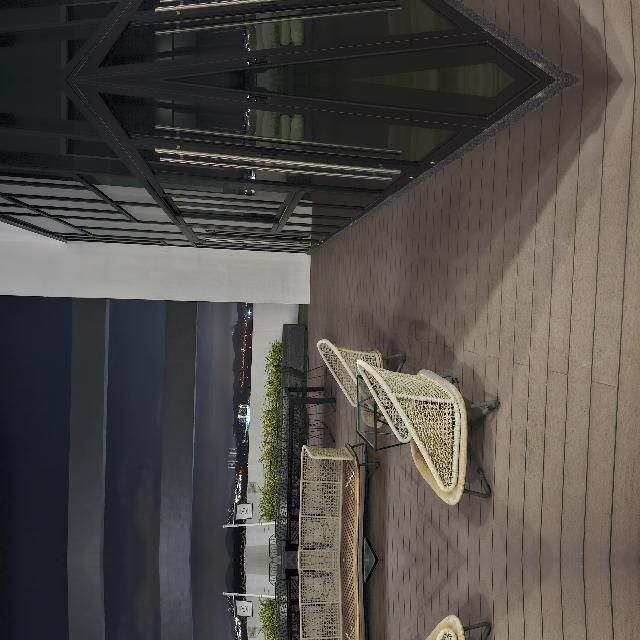obstacle: (52, 398, 224, 582), (52, 537, 223, 640), (4, 355, 176, 419), (0, 376, 120, 462), (168, 335, 250, 393)
